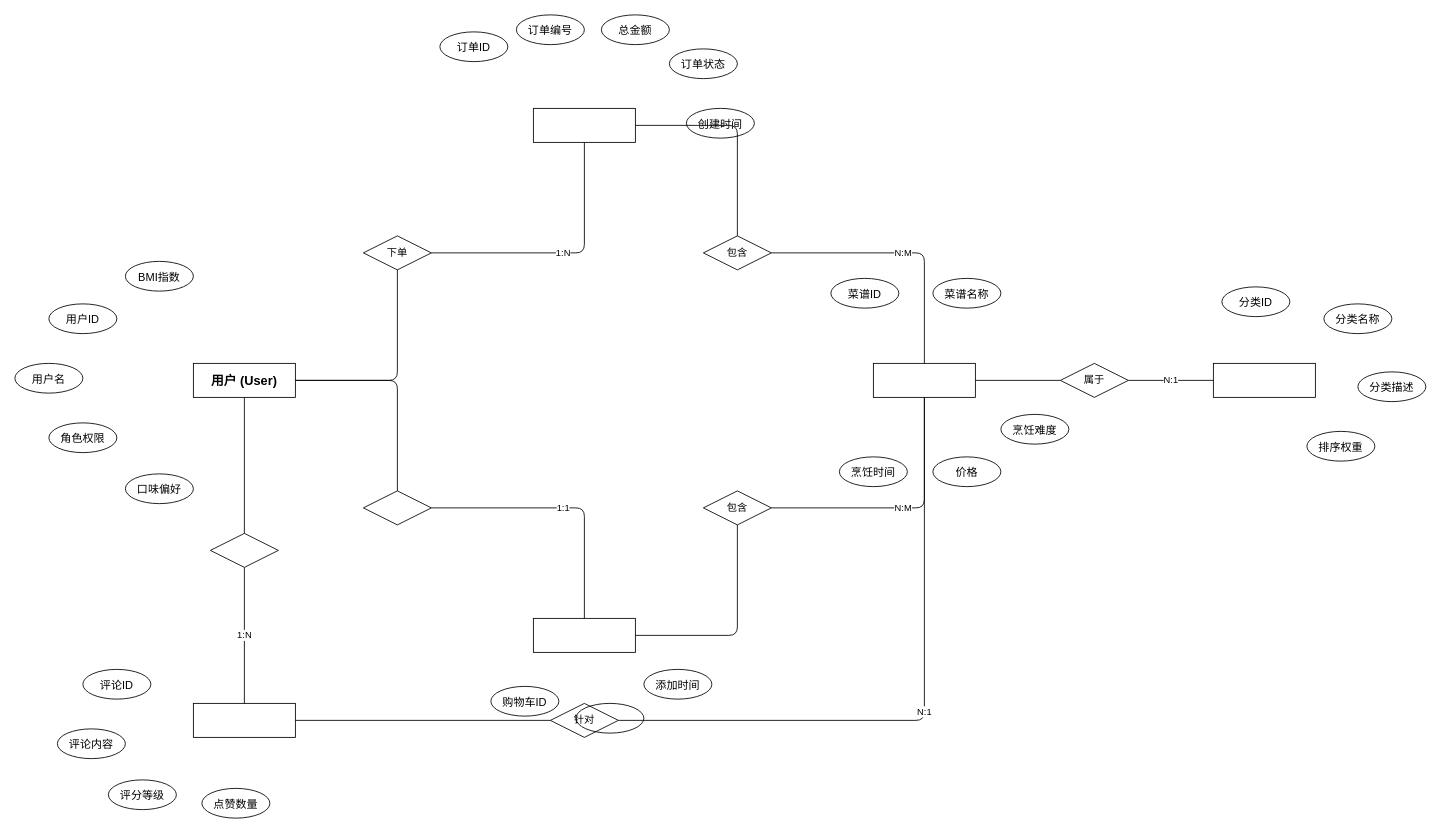
Some shapes in this 1441 by 833 pixel diagram are drawn without their labels. The shapes that lost their labels are listed below. From the top down, each one's centre as x and y in pixels, then its label:
At point 584,125: "订单 (Order)".
At point 924,380: "菜谱 (Recipe)".
At point 1264,380: "分类 (Category)".
At point 397,507: "加购".
At point 244,550: "发表".
At point 584,635: "购物车 (Cart)".
At point 244,720: "评论 (Comment)".
At point 609,718: "购买数量".
